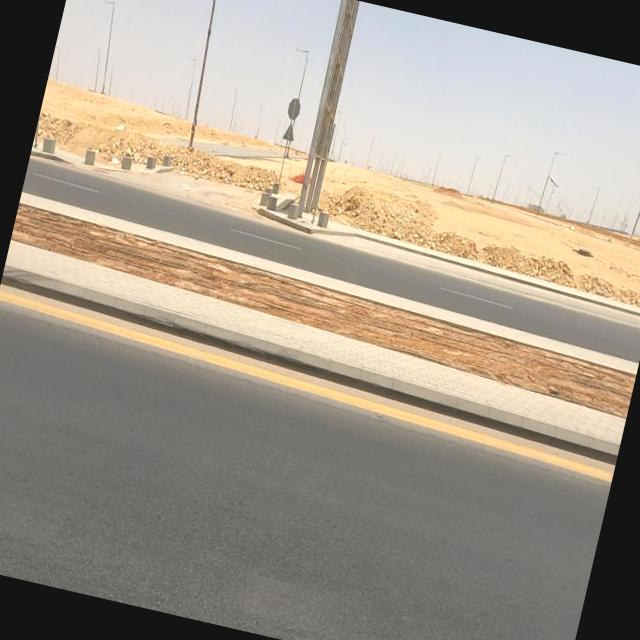debris: (547, 220, 614, 286)
